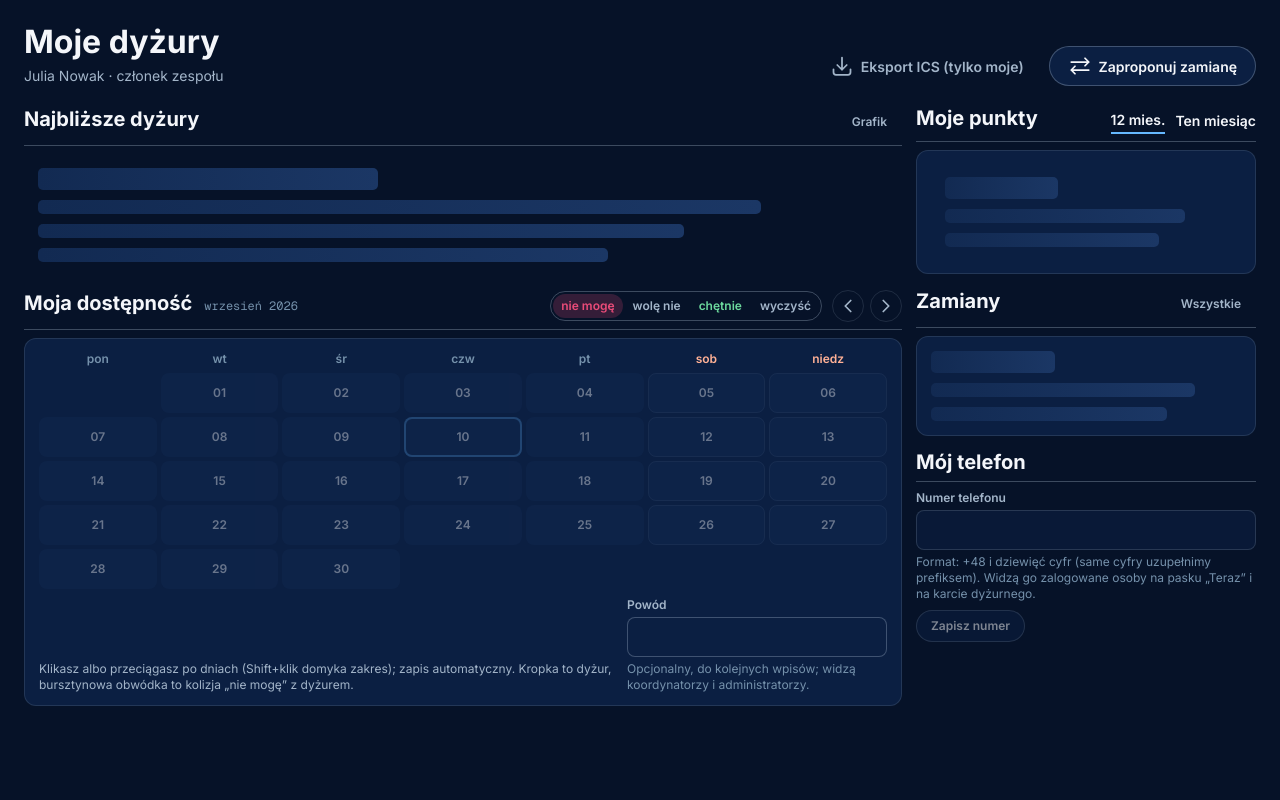
MineScreen availability calendar › saves a click at once with the brush kind and the optional reason
Expected: the table named "Kalendarz dostępności" is shown, 39,373 -> 887,589
Click the radio button labelled "wolę nie" at (657, 306), box 625,294 -> 689,318
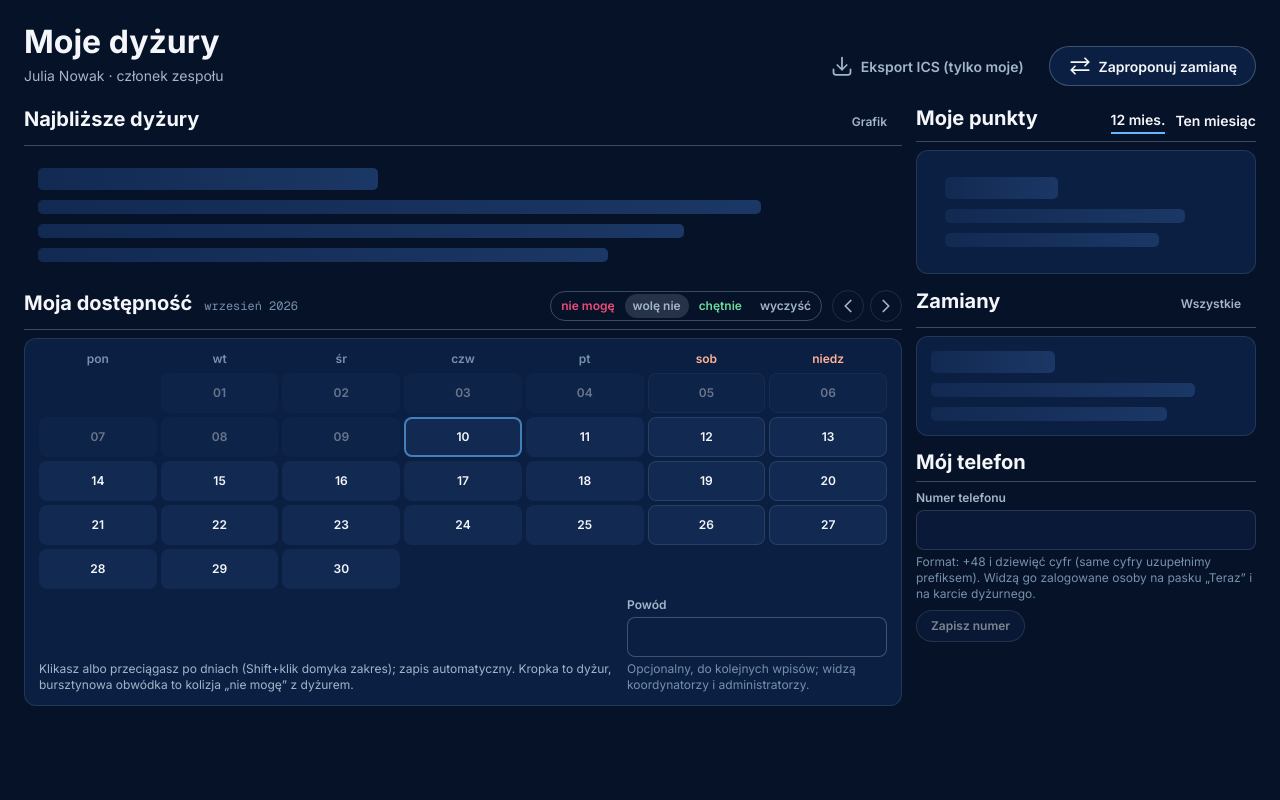
Type "szkolenie" into the field labelled "Powód" at (757, 637), box 627,617 -> 887,657
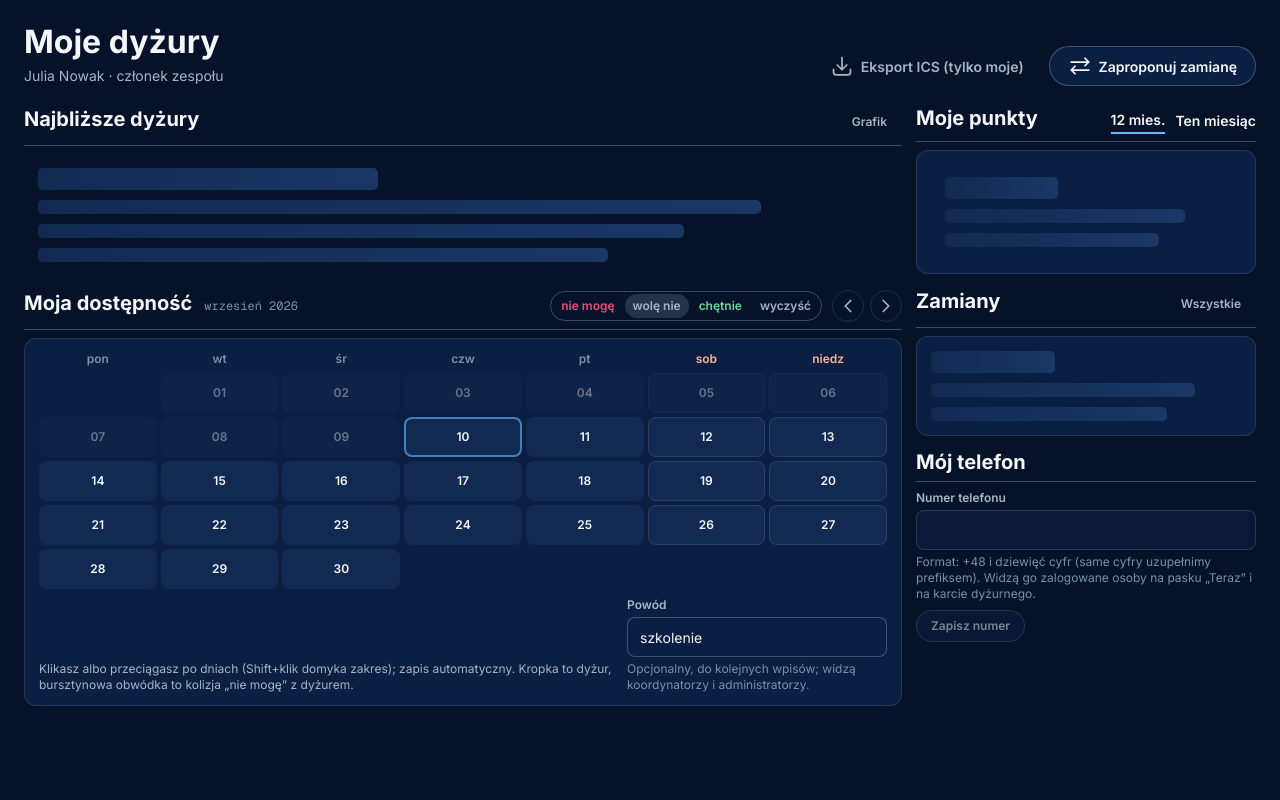
Click the cell named "niedz 20-09-2026" at (828, 481), box 769,461 -> 887,501
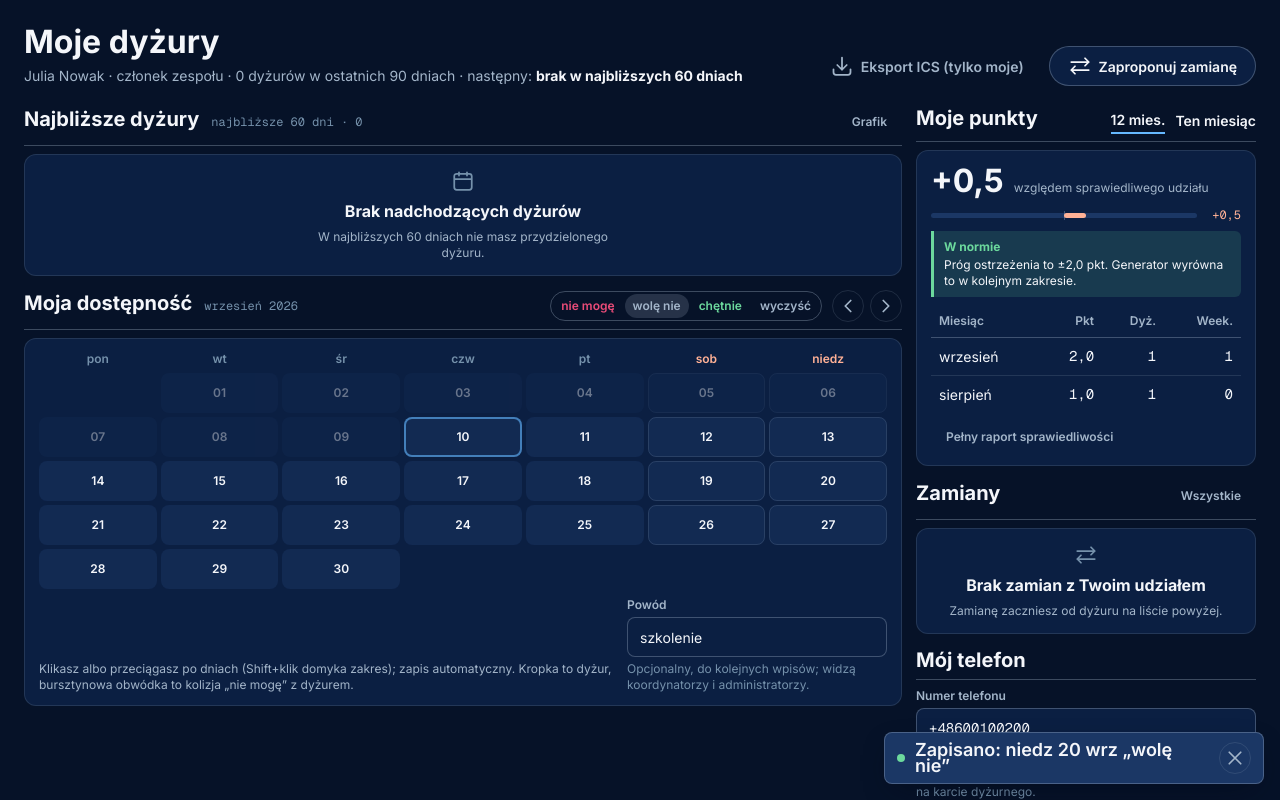
Now the heading "Zapisano: niedz 20 wrz „wolę nie”" is shown, box 915,742 -> 1209,774
